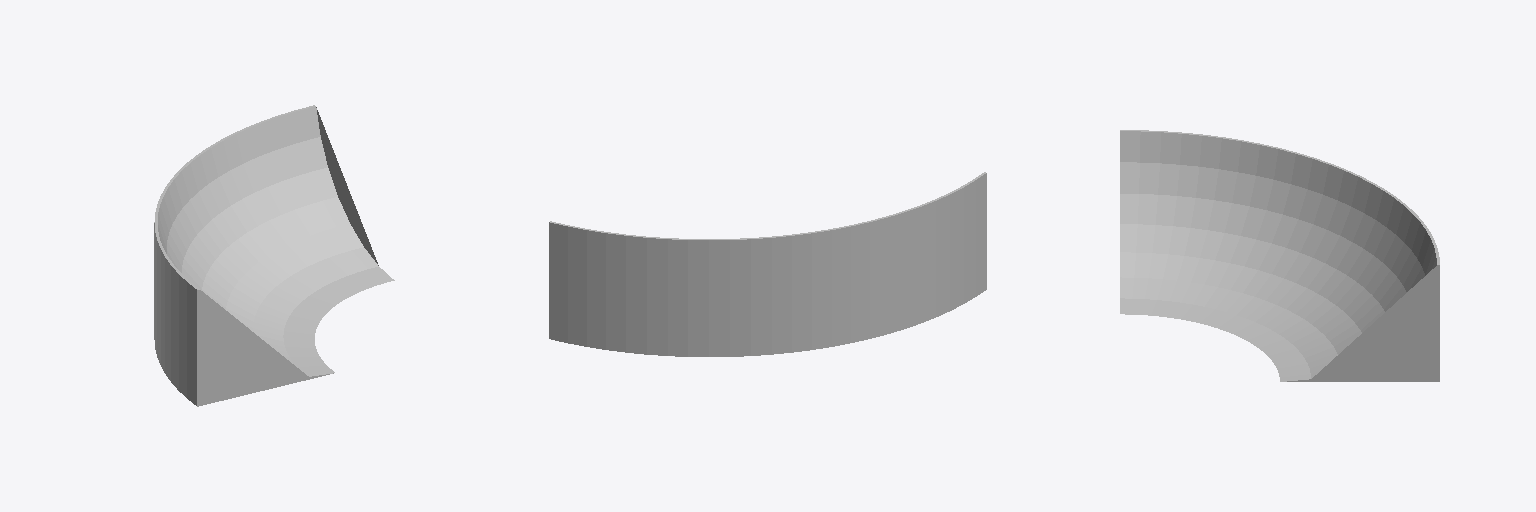
Rendered from quarter-pipe-turn-loose.obj.
The picture shows the model from 3 angles: view 1: azimuth 30°, elevation 25°; view 2: azimuth 150°, elevation 25°; view 3: azimuth 270°, elevation 25°; orthographic projection.
Visible parts, largest first — view 1: quarter-pipe-turn-loose; view 2: quarter-pipe-turn-loose; view 3: quarter-pipe-turn-loose.
Part boxes in pixels (x1,y1,x2,y2): quarter-pipe-turn-loose: (154,105,394,406); quarter-pipe-turn-loose: (549,172,986,356); quarter-pipe-turn-loose: (1120,130,1439,381).
Bounding box in the file's own units: 2 × 0.8049 × 2.